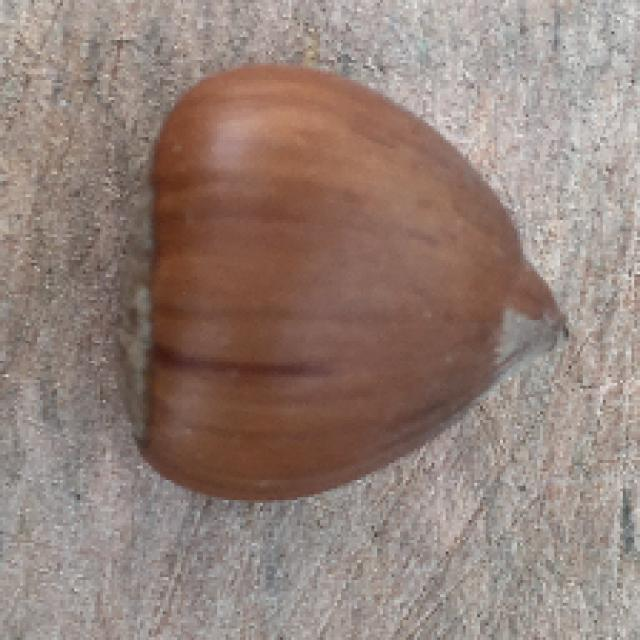damagedHazelnut: (110, 61, 572, 502)
